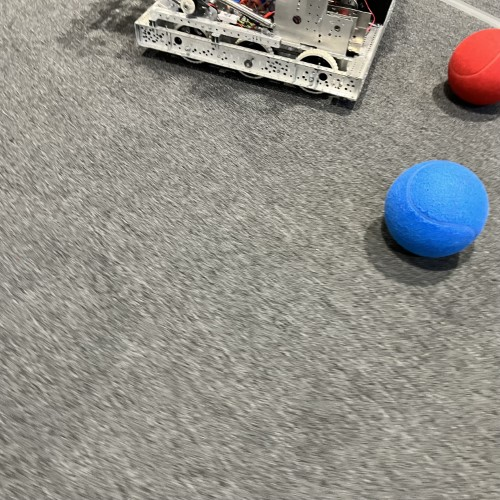blue: (381, 157, 491, 260)
red: (445, 27, 500, 108)
